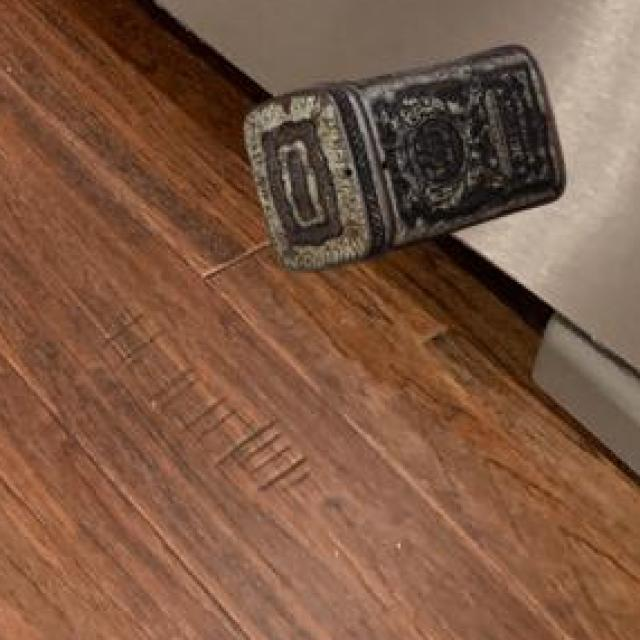logam: (243, 44, 563, 267)
